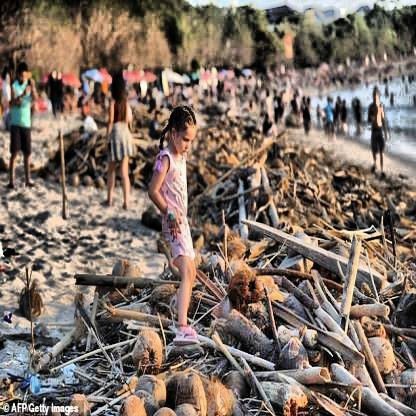Wood wastes: (260, 251, 415, 410), (98, 346, 258, 415)
